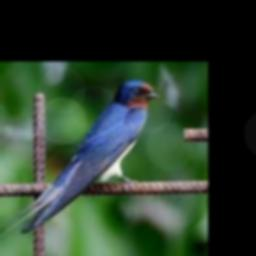Swallow: (0, 80, 159, 256)
